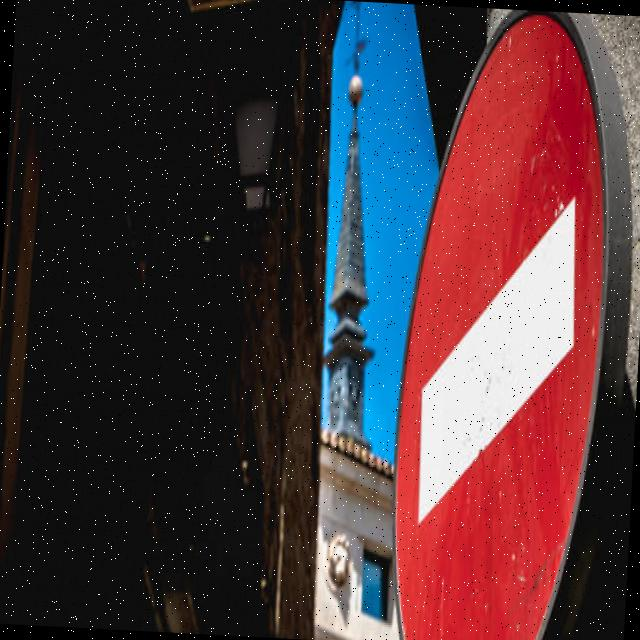do_not_enter: (363, 3, 640, 640)
